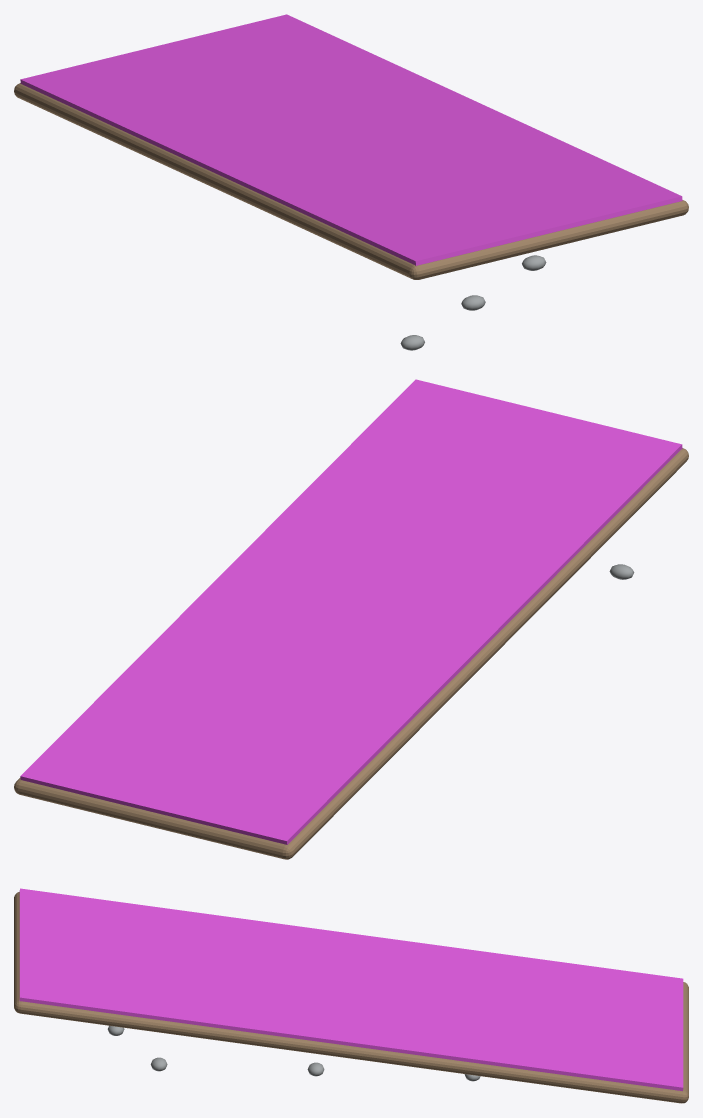
3 views of the same model, one above another, from view 1: azimuth 30°, elevation 25°; view 2: azimuth 150°, elevation 25°; view 3: azimuth 270°, elevation 25° (orthographic). The views are drawn at different scales.
Visible parts, largest first — view 1: NAV_MASK_FOREST_PATH_DIRT_SLOPE_UP_SLOPE, LOD0_FOREST_PATH_DIRT_SLOPE_UP_Slope; view 2: NAV_MASK_FOREST_PATH_DIRT_SLOPE_UP_SLOPE, LOD0_FOREST_PATH_DIRT_SLOPE_UP_Slope; view 3: NAV_MASK_FOREST_PATH_DIRT_SLOPE_UP_SLOPE, LOD0_FOREST_PATH_DIRT_SLOPE_UP_Slope.
Part boxes in pixels (<box>): NAV_MASK_FOREST_PATH_DIRT_SLOPE_UP_SLOPE: <box>20,14,682,265</box>; LOD0_FOREST_PATH_DIRT_SLOPE_UP_Slope: <box>14,83,688,279</box>; NAV_MASK_FOREST_PATH_DIRT_SLOPE_UP_SLOPE: <box>20,379,682,844</box>; LOD0_FOREST_PATH_DIRT_SLOPE_UP_Slope: <box>14,448,688,859</box>; NAV_MASK_FOREST_PATH_DIRT_SLOPE_UP_SLOPE: <box>19,888,683,1091</box>; LOD0_FOREST_PATH_DIRT_SLOPE_UP_Slope: <box>14,892,688,1103</box>.
Size of what is drawn, in the model's own units: 3.2 by 1.38 by 8.
